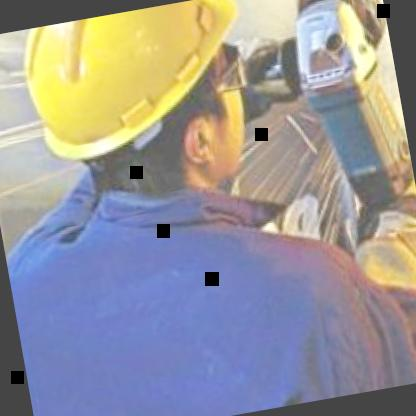helmet: (0, 0, 317, 227)
